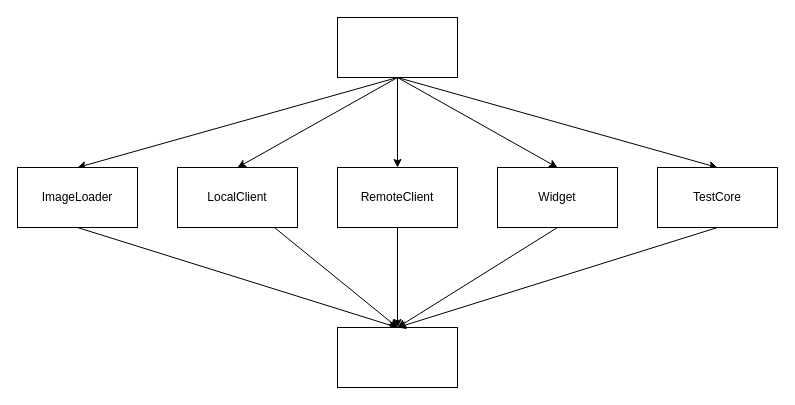
The diagram is 795 pixels wide and 405 high, and some of its shapes have lost their labels. Each missing label, with the centre of its shape:
app: pixel 397 47
Base: pixel 397 357
